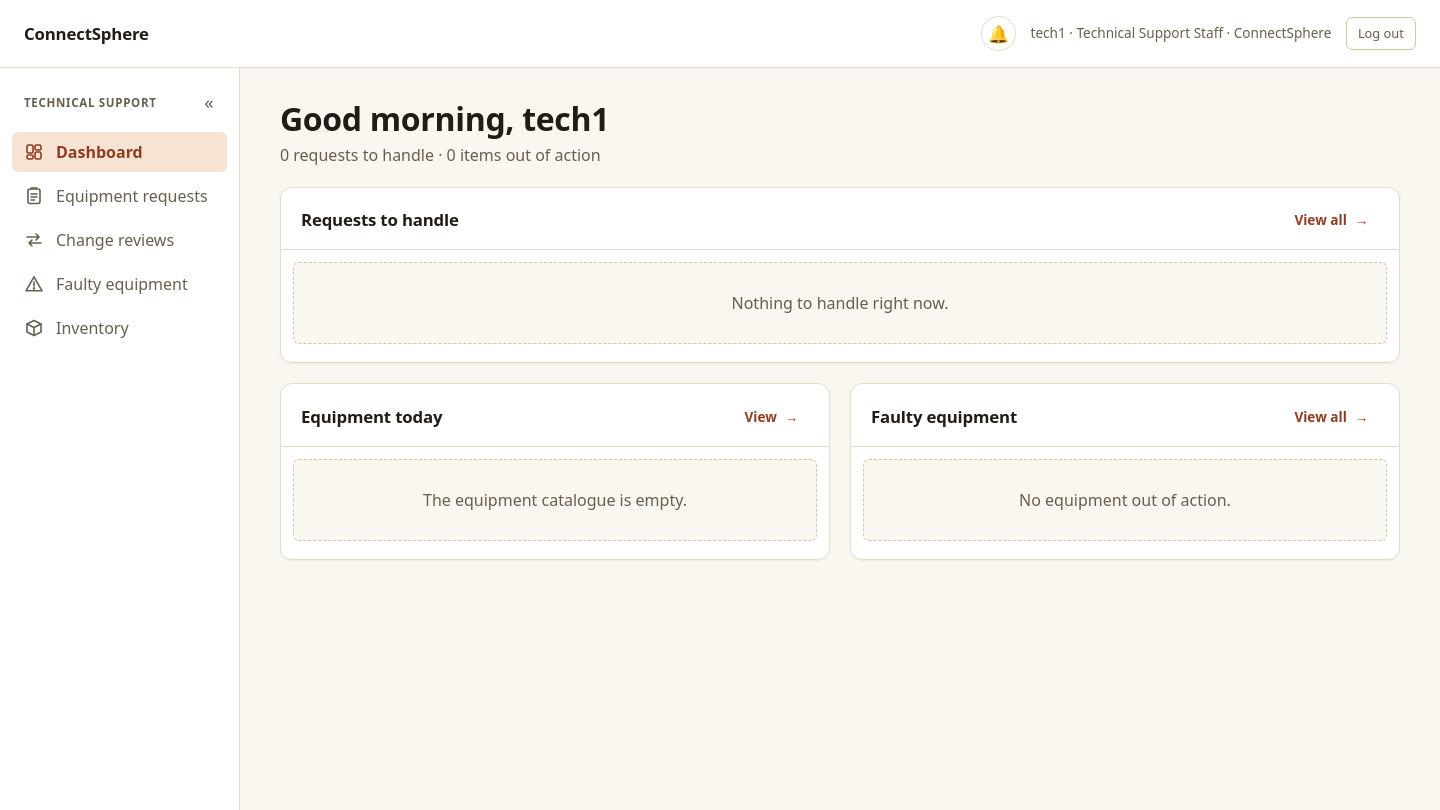
Test: App routing — role consoles › TS09 (happy): opens equipment requests from the Technical Support dashboard side navigation
The image size is (1440, 810).
Check: the heading "Good morning, tech1" is shown, box left=280, top=97, right=609, bottom=140
What coordinates should you click on to do the following:
click the link "Equipment requests"
I would click on:
 (116, 196)
Its box is left=24, top=185, right=208, bottom=207.
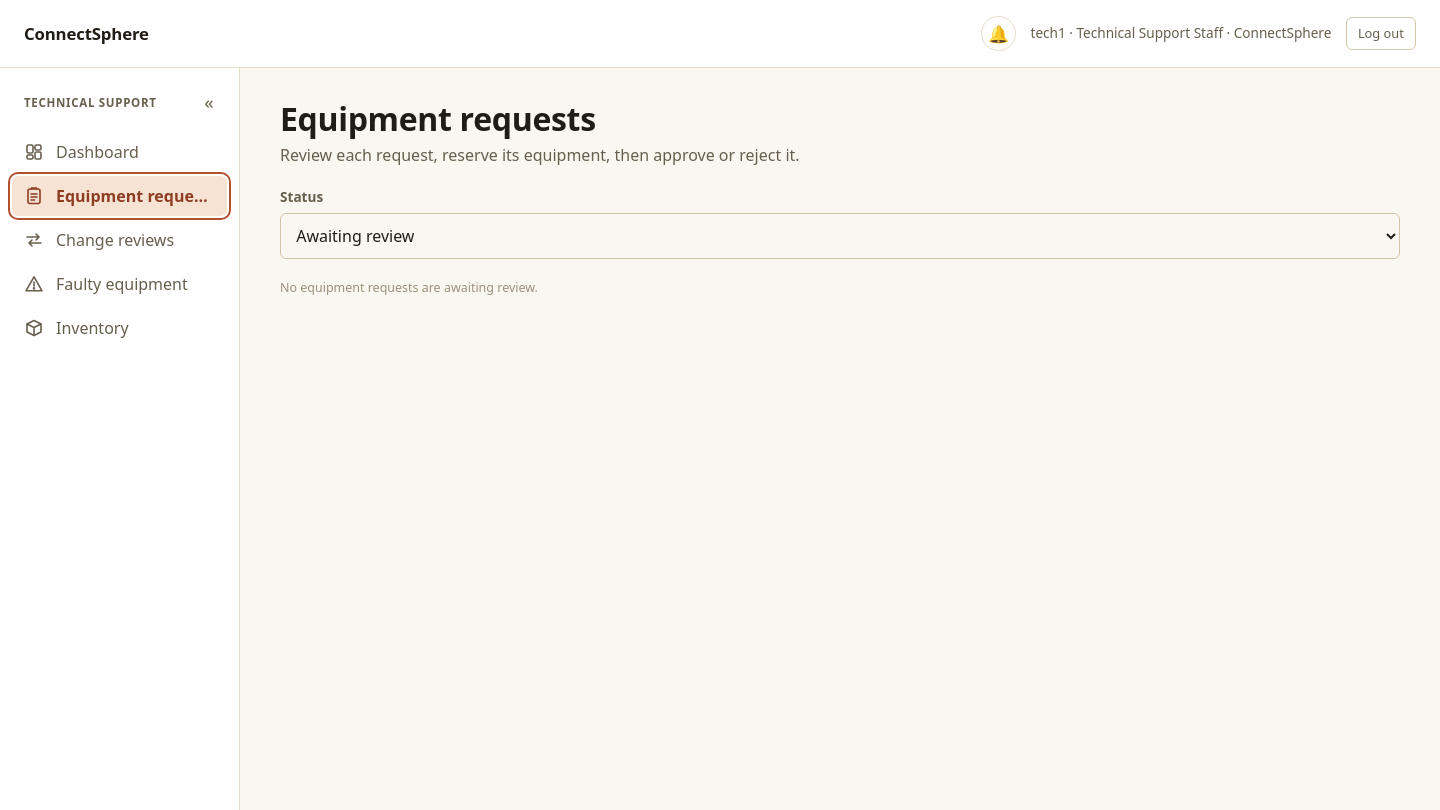
Check: the heading "Equipment requests" is shown, box left=280, top=97, right=596, bottom=140
Check: the text "No equipment requests are awaiting review." is shown, box left=280, top=278, right=538, bottom=296
